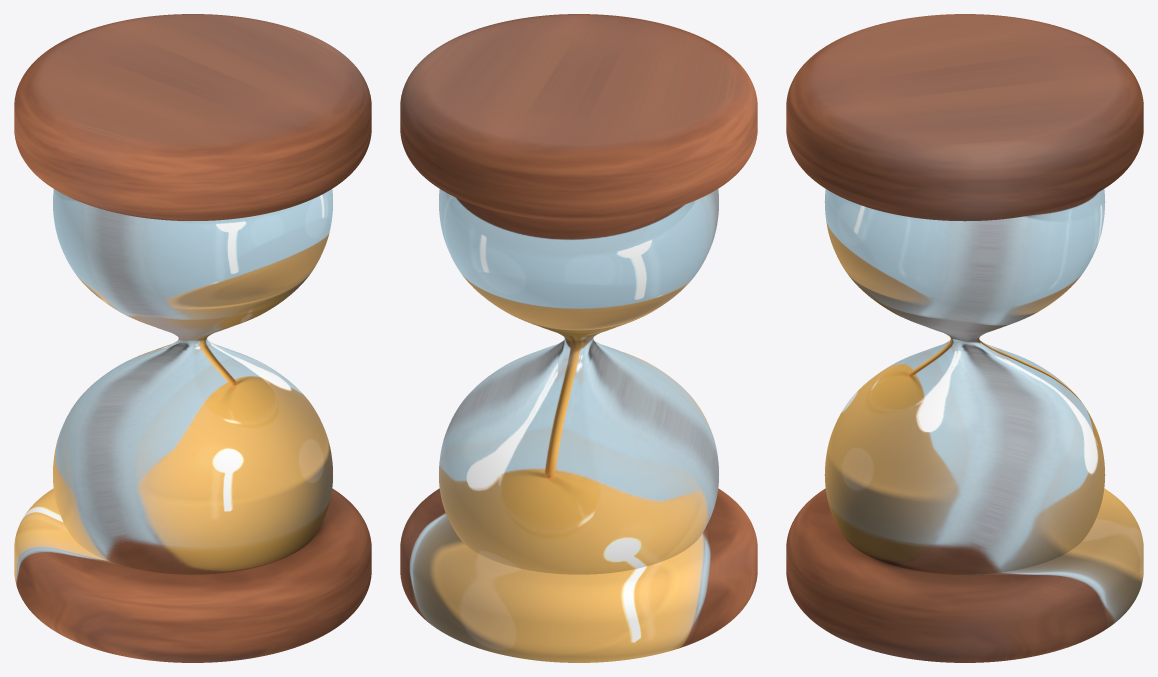
The model's file is Refresh_Charm.glb.
3 renders of one model, left to right at view 1: azimuth 30°, elevation 25°; view 2: azimuth 150°, elevation 25°; view 3: azimuth 270°, elevation 25°, orthographic.
Parts seen in each view (by area): view 1: RC_Glass, RC_CapTop, RC_CapBottom; view 2: RC_Glass, RC_CapTop, RC_CapBottom; view 3: RC_Glass, RC_CapTop, RC_CapBottom.
Part boxes in pixels (x1=…): RC_Glass: x1=53, y1=189, x2=332, y2=574; RC_CapTop: x1=14, y1=14, x2=371, y2=221; RC_CapBottom: x1=14, y1=488, x2=371, y2=662; RC_Glass: x1=439, y1=189, x2=718, y2=574; RC_CapTop: x1=400, y1=14, x2=757, y2=221; RC_CapBottom: x1=400, y1=488, x2=757, y2=662; RC_Glass: x1=824, y1=189, x2=1105, y2=574; RC_CapTop: x1=786, y1=14, x2=1143, y2=221; RC_CapBottom: x1=786, y1=488, x2=1143, y2=662.
Size of the model in its own units: 1.17 by 1.88 by 1.17.
Materials: 1 (1 with a texture image).
